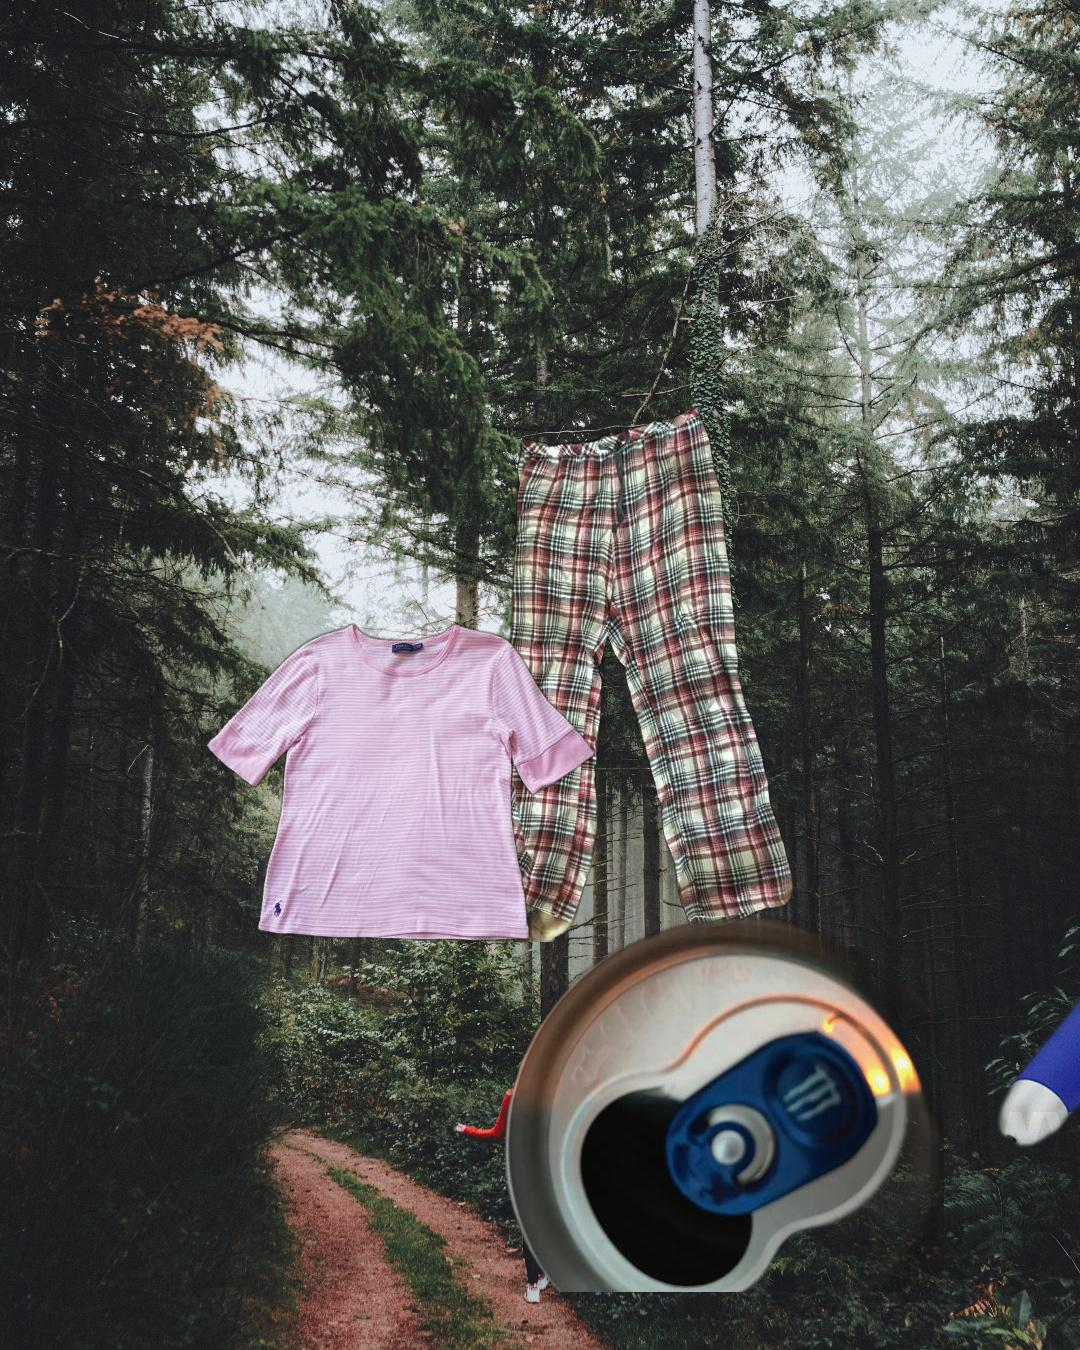clothes: (485, 409, 797, 942), (204, 619, 595, 946)
metal-cans: (499, 914, 944, 1292)
penholder: (990, 710, 1080, 1227)
